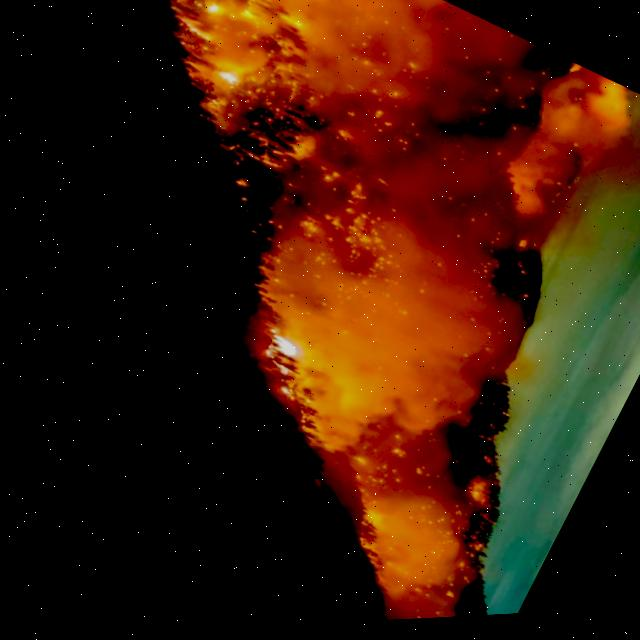Fire: (272, 164, 575, 516), (279, 338, 559, 629), (328, 0, 616, 227), (132, 0, 372, 168), (241, 113, 402, 310), (226, 293, 322, 394)
